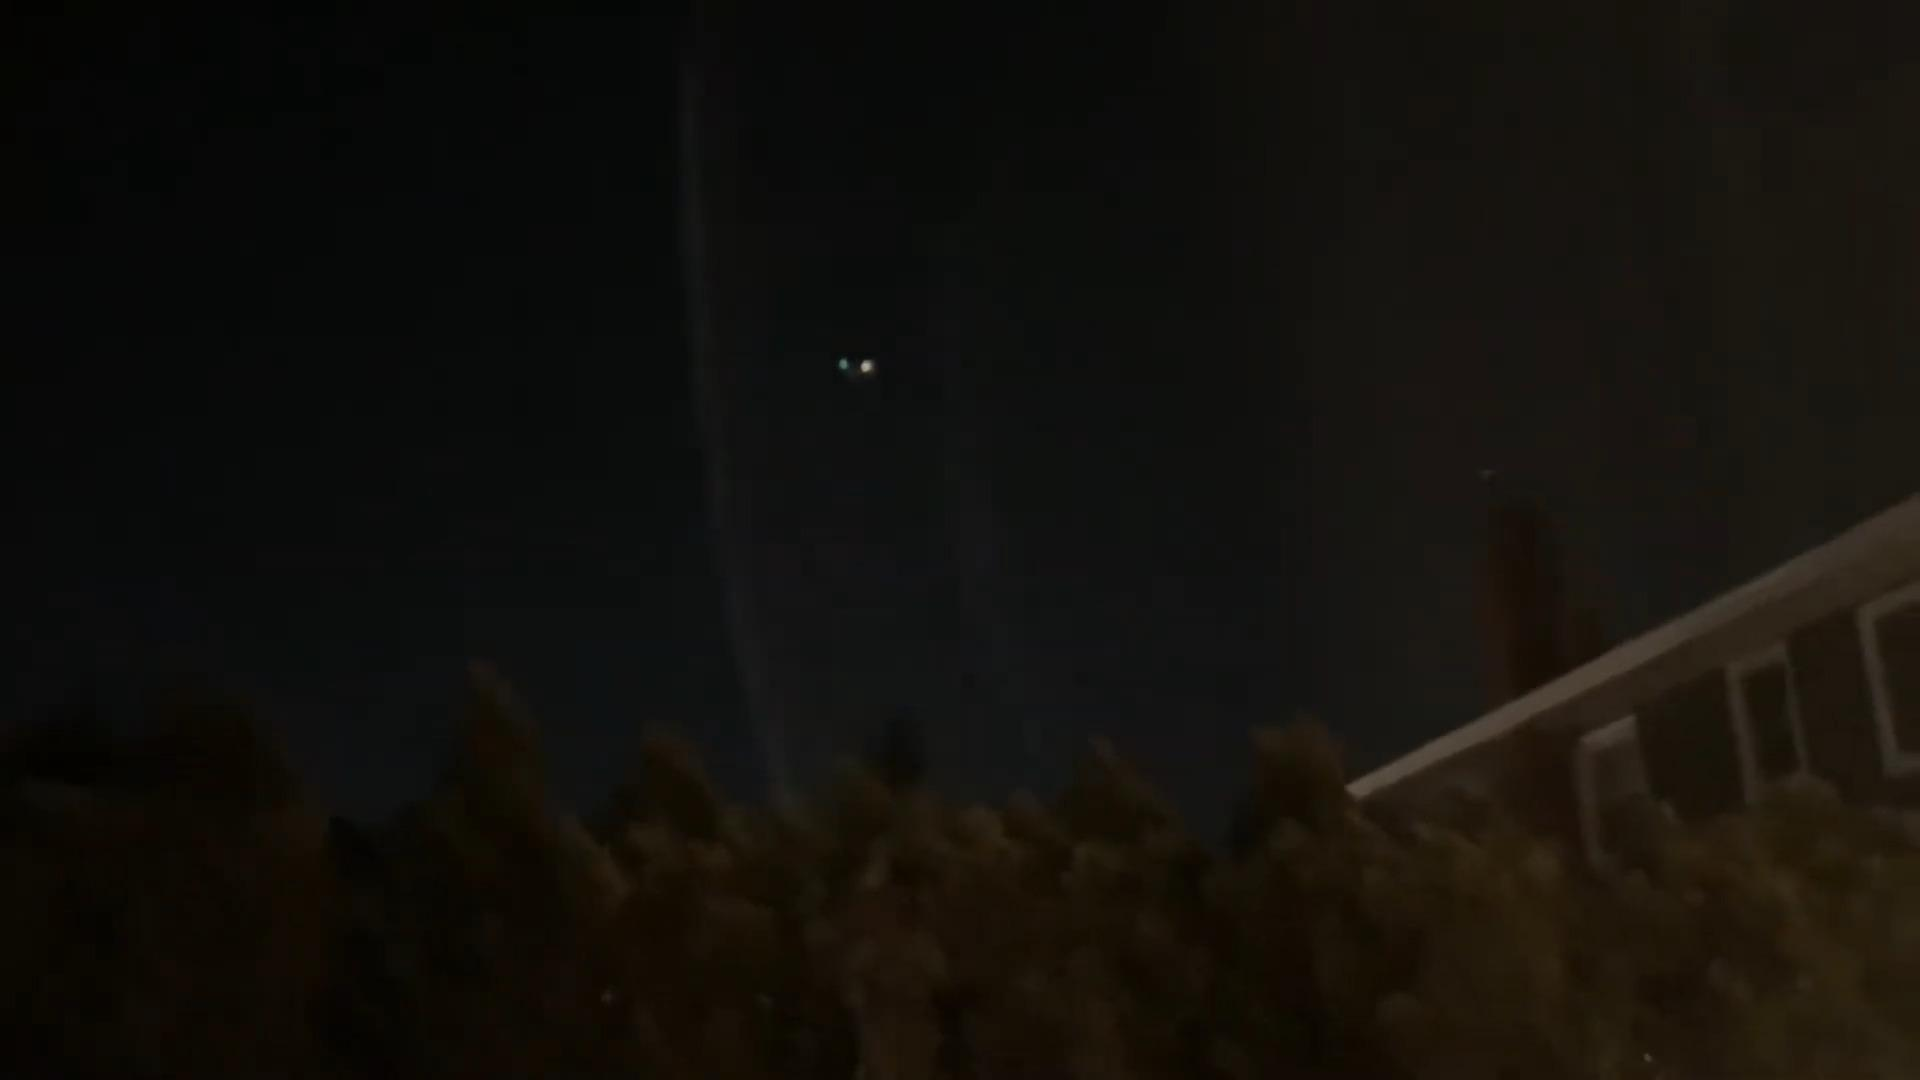Plane: (815, 345, 903, 400)
